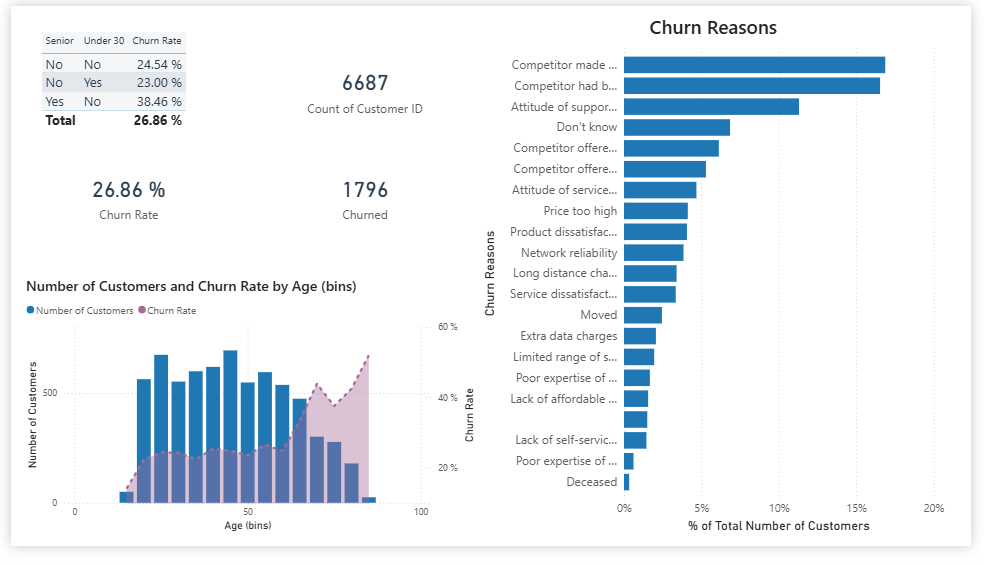

Layout of this report page (visuals, bound fields, positions):
{"tool":"powerbi","page":{"name":"Churn Demographics","canvas":[1280,720],"ordinal":3},"visuals":[{"type":"tableEx","fields":{"Values":["Databel - Data.Senior","Databel - Data.Under 30","Databel - Data.Churn Rate"]},"box":[35.2,30.8,280.1,161.3],"z":0},{"type":"clusteredBarChart","title":"Churn Reasons","fields":{"Category":["Databel - Data.Churn Reason"],"Y":["CountNonNull(Databel - Data.Number of Customers in Group)"]},"box":[623.2,10.3,626.2,696.5],"z":1000},{"type":"card","fields":{"Values":["Databel - Data.Churn Rate"]},"box":[51.3,192.1,211.2,123.2],"z":2000},{"type":"lineStackedColumnComboChart","fields":{"Category":["Databel - Data.Age (bins)"],"Y":["Databel - Data.Number of costumers"],"Y2":["Databel - Data.Churn Rate"]},"box":[14.7,360.7,608.6,346.1],"z":3000},{"type":"card","fields":{"Values":["Count(Databel - Data.Customer ID)"]},"box":[366.6,49.9,211.2,123.2],"z":4000},{"type":"card","fields":{"Values":["Sum(Databel - Data.Churned)"]},"box":[366.6,192.1,211.2,123.2],"z":5000}]}

Visuals, with their boxes in screenshot pixels (x1, y1, x2, y2), scaled from the page's 1280x720 canvas onto the 985x564 screenshot:
tableEx - Databel - Data.Senior x Databel - Data.Under 30: [27, 24, 243, 150]
"Churn Reasons" clusteredBarChart: [480, 8, 961, 554]
card - Databel - Data.Churn Rate: [39, 150, 202, 247]
lineStackedColumnComboChart - Databel - Data.Age (bins) x Databel - Data.Number of costumers: [11, 283, 480, 554]
card - Count(Databel - Data.Customer ID): [282, 39, 445, 136]
card - Sum(Databel - Data.Churned): [282, 150, 445, 247]
